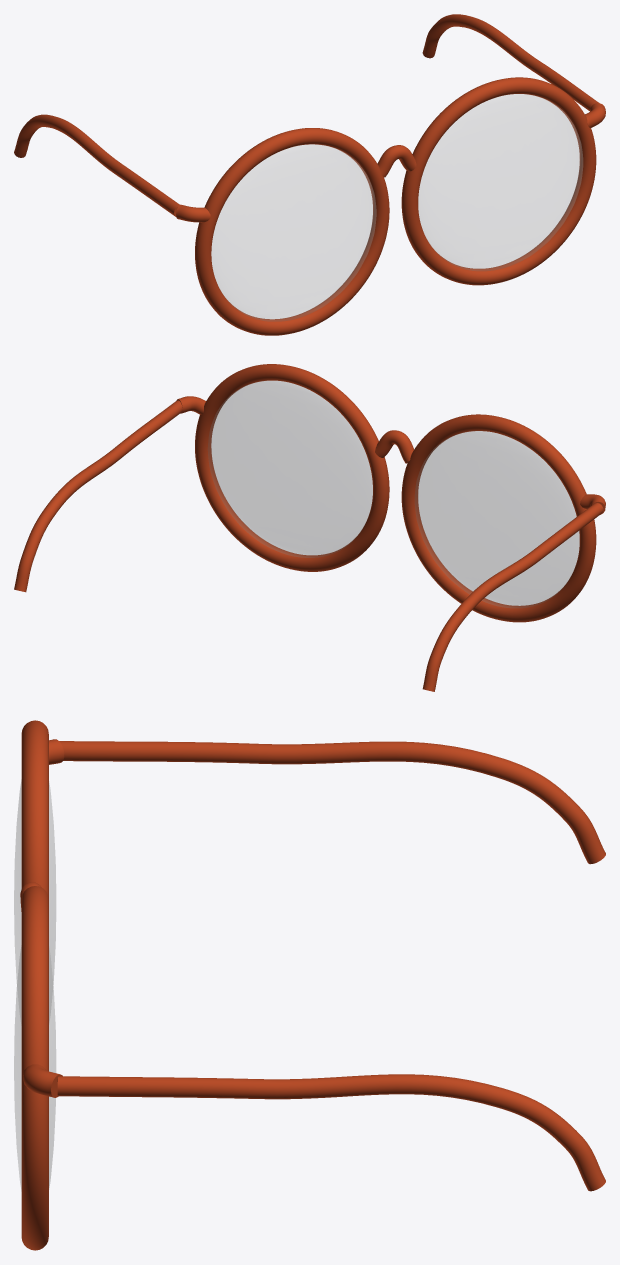
File: brille.glb
The picture shows the model from 3 angles, top to bottom: view 1: azimuth 30°, elevation 25°; view 2: azimuth 150°, elevation 25°; view 3: azimuth 270°, elevation 25°; orthographic projection. The views are drawn at different scales.
Visible parts, largest first — view 1: Glas_L, Glas_R, Rahmen, Buegel_R, Buegel_L; view 2: Glas_R, Glas_L, Rahmen, Buegel_L, Buegel_R; view 3: Rahmen, Buegel_R, Buegel_L, Glas_L, Glas_R.
Boxes of the visible parts, x1,y1,x2,y2 form: Glas_L: (211,144,376,321); Glas_R: (418,94,582,270); Rahmen: (176,77,605,335); Buegel_R: (422,14,598,111); Buegel_L: (14,114,179,216); Glas_R: (208,380,372,557); Glas_L: (414,431,579,607); Rahmen: (176,364,605,622); Buegel_L: (422,503,603,691); Buegel_R: (14,400,182,592); Rahmen: (20,720,64,1250); Buegel_R: (57,1074,605,1191); Buegel_L: (59,741,605,864); Glas_L: (14,780,56,1023); Glas_R: (14,945,56,1190).
Bounding box in the file's own units: 5.08 × 2.27 × 3.69.
